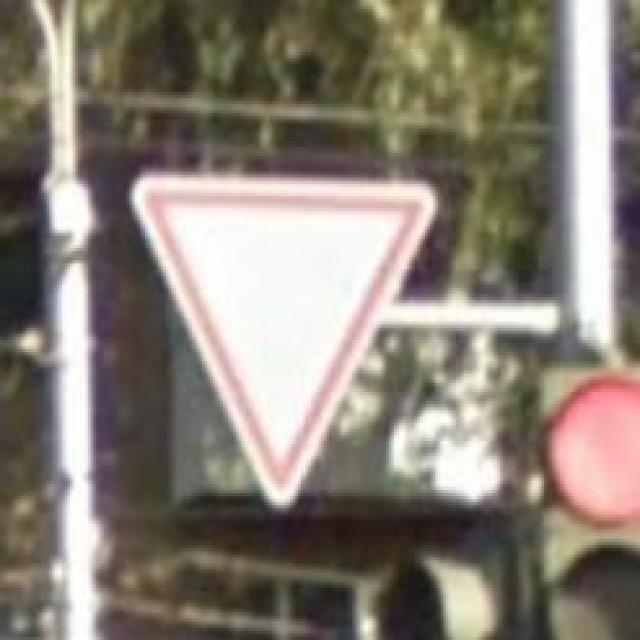Ustap pierwszenstwa: (130, 172, 435, 508)
